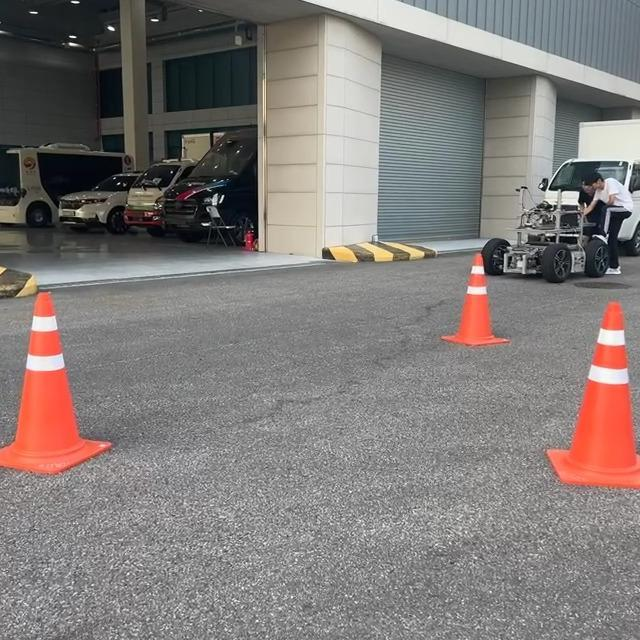fallen_object: (524, 293, 640, 536), (0, 262, 110, 480), (440, 247, 512, 370)
